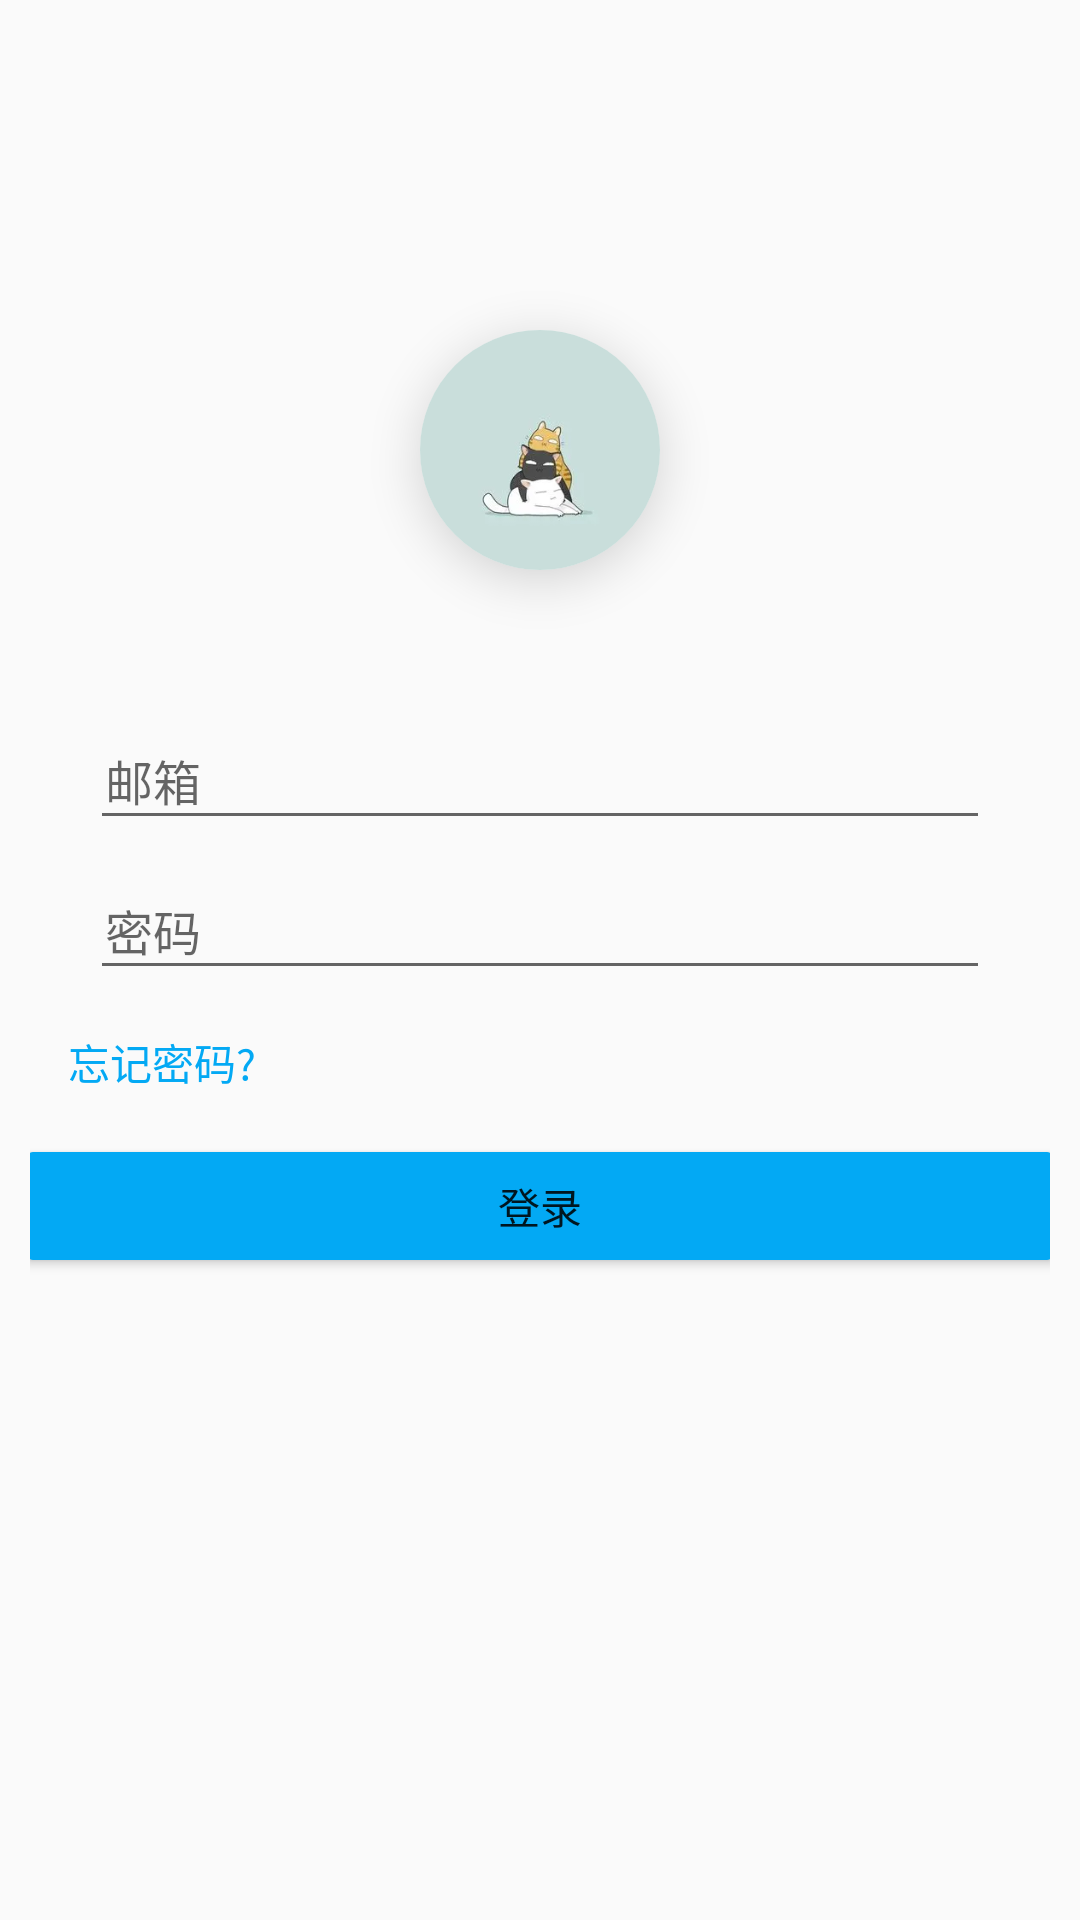

Screen size 1080w x 1920h. Icon name, then its box in pixels as (x1, y1, x2, y2):
cat: (420, 330, 660, 570)
